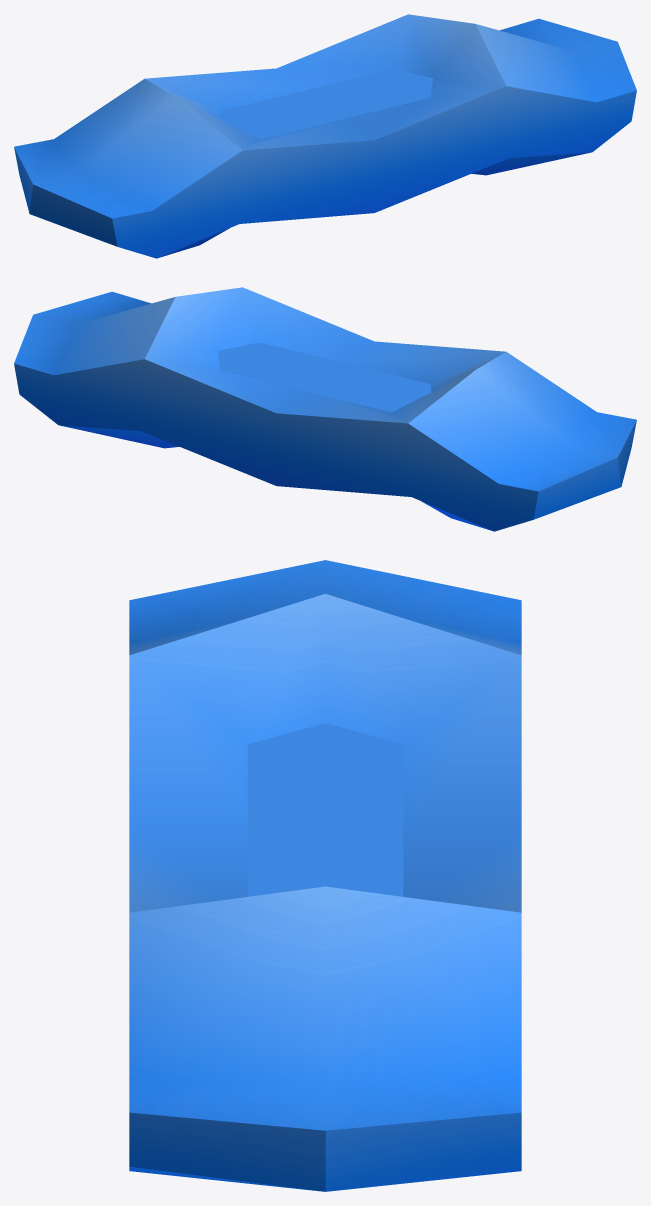
File: Guard_Five.fbx
The picture shows the model from 3 angles, top to bottom: view 1: azimuth 30°, elevation 25°; view 2: azimuth 150°, elevation 25°; view 3: azimuth 270°, elevation 25°; orthographic projection. The views are drawn at different scales.
Parts seen in each view (by area): view 1: Guard_Five; view 2: Guard_Five; view 3: Guard_Five.
Part boxes in pixels (x1=…): Guard_Five: x1=14, y1=14, x2=636, y2=258; Guard_Five: x1=14, y1=287, x2=636, y2=531; Guard_Five: x1=129, y1=560, x2=521, y2=1191.
Bounding box in the file's own units: 6.32 × 1.4 × 1.82.
